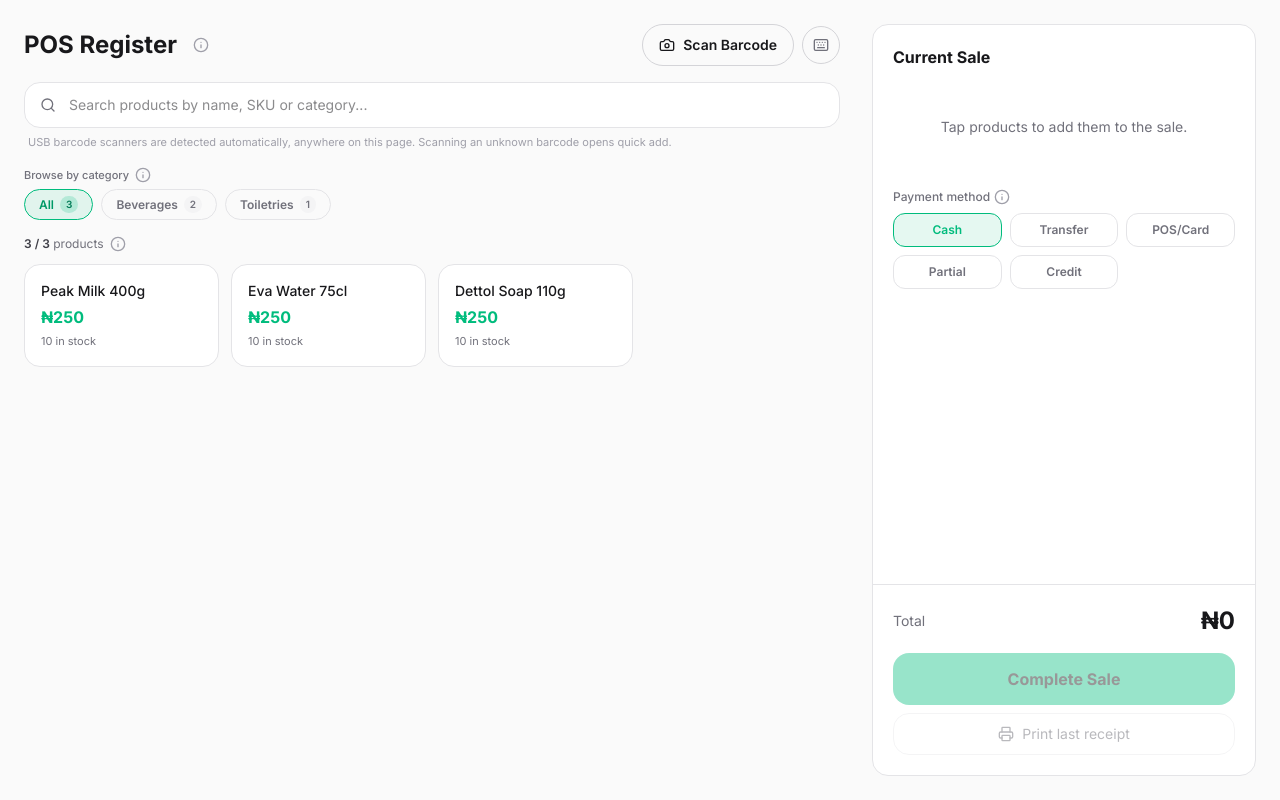
Test: POS: help tooltips › explains the result count without changing its live text
Expected: the text "Peak Milk 400g" is shown, [41, 281, 145, 301]
Expected: the message reads "3 / 3 products", [24, 236, 104, 252]
Focus the button named "Help: Result count" at (118, 244), box [110, 236, 126, 252]
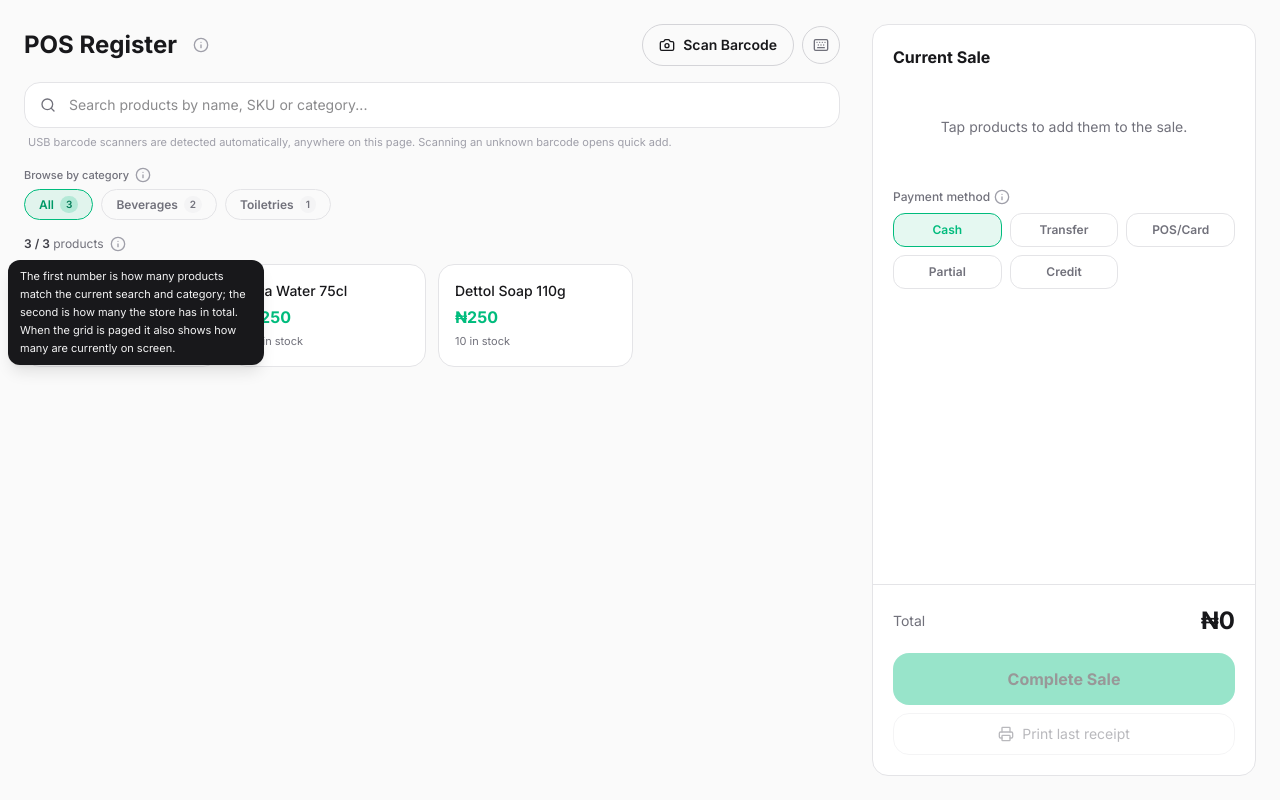
Expected: the message reads "3 / 3 products", [24, 236, 104, 252]
Expected: the tooltip shows "first number", [20, 269, 246, 354]
